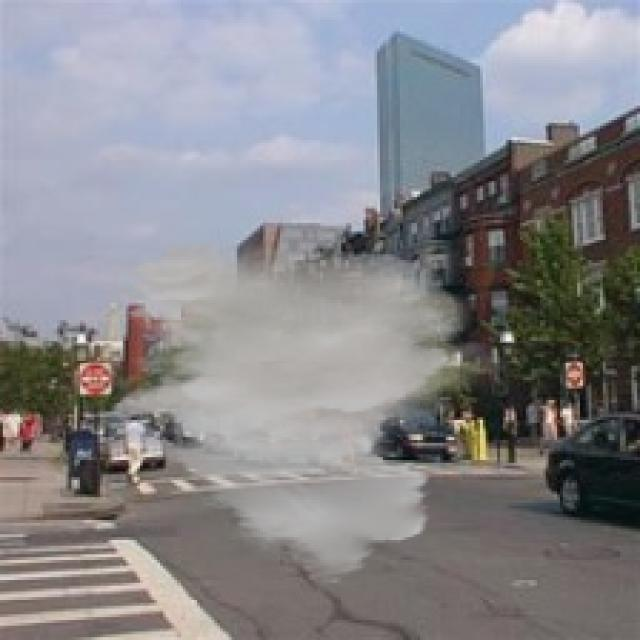smoke: (109, 240, 517, 586)
